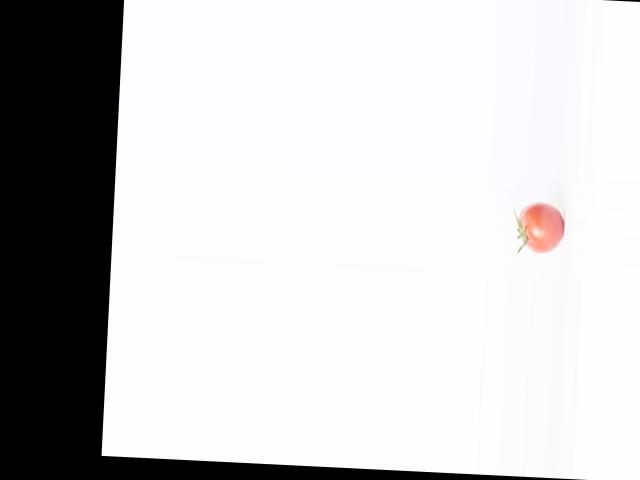tomato: (517, 200, 565, 253)
